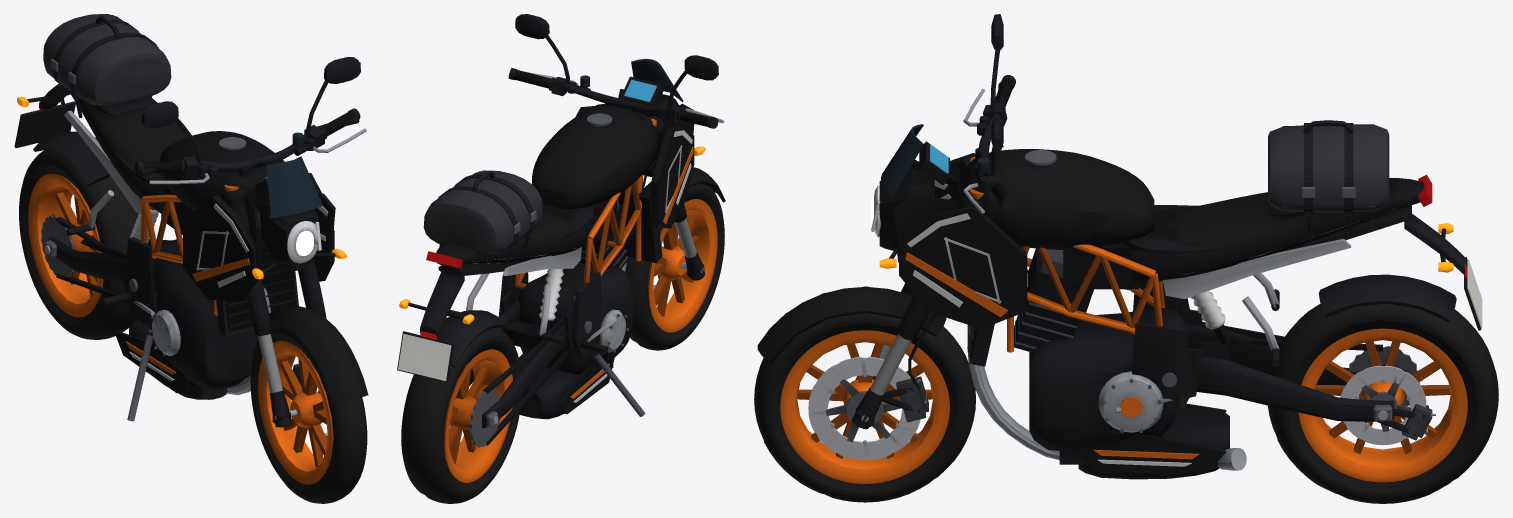
The model's file is bike03_duke390.glb.
3 renders of one model, left to right at view 1: azimuth 30°, elevation 25°; view 2: azimuth 150°, elevation 25°; view 3: azimuth 270°, elevation 25°, orthographic. The views are drawn at different scales.
Parts seen in each view (by area): view 1: body (×2), wheel_rear (×2), wheel_front (×2), luggage (×2), handlebar (×2), fork_left (×2), headlight, fork_right; view 2: body (×2), wheel_rear (×2), wheel_front (×2), luggage (×2), handlebar (×2), fork_left; view 3: body (×2), wheel_rear (×2), wheel_front (×2), luggage, disc_front (×2), fork_right (×2), handlebar (×2), disc_rear (×2).
Part boxes in pixels (box(x1,y1,x2,y2)): body (×2): box(14, 83, 368, 421); wheel_rear (×2): box(19, 149, 138, 339); wheel_front (×2): box(250, 323, 367, 503); luggage (×2): box(43, 14, 171, 117); handlebar (×2): box(134, 57, 366, 184); fork_left (×2): box(224, 184, 291, 427); headlight: box(287, 221, 321, 263); fork_right: box(293, 258, 326, 378); body (×2): box(397, 59, 725, 445); wheel_rear (×2): box(401, 328, 521, 503); wheel_front (×2): box(625, 183, 724, 350); luggage (×2): box(423, 170, 542, 267); handlebar (×2): box(508, 14, 724, 128); fork_left: box(650, 118, 704, 280); body (×2): box(757, 124, 1482, 479); wheel_rear (×2): box(1267, 303, 1498, 503); wheel_front (×2): box(754, 312, 975, 502); luggage: box(1268, 120, 1389, 237); disc_front (×2): box(808, 357, 920, 460); fork_right (×2): box(852, 188, 984, 429); handlebar (×2): box(963, 14, 1015, 213); disc_rear (×2): box(1340, 365, 1426, 445).
Size of the model in its own units: 0.7804 by 1.25 by 1.97.
